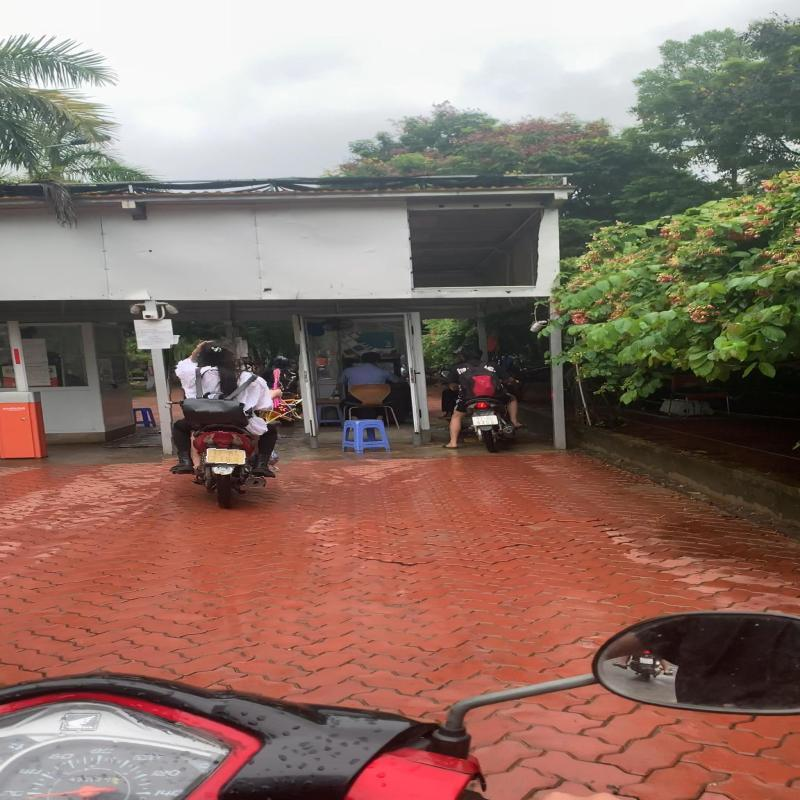licenseplate: (204, 447, 250, 467)
motorcyclist: (162, 337, 298, 511)
nohelmet: (192, 339, 242, 368), (458, 345, 486, 361)
